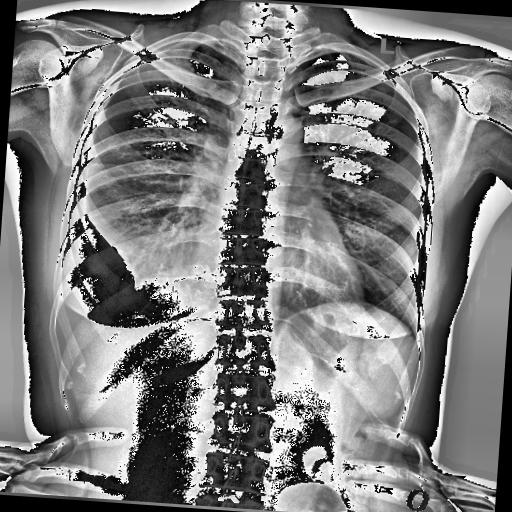10- Pleural effusion: (42, 172, 172, 337), (58, 181, 156, 309), (63, 182, 147, 310)
